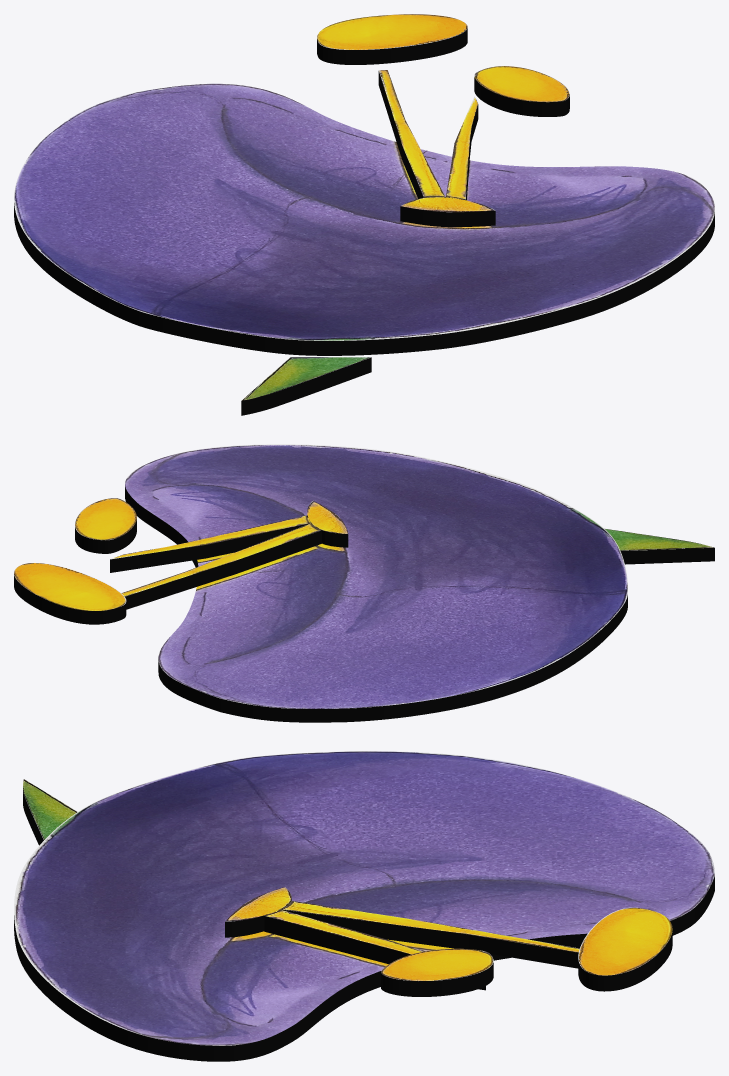
Rendered from Alt003_BD001_Flower_ModelB.gltf.
3 views of the same model, one above another, from view 1: azimuth 30°, elevation 25°; view 2: azimuth 150°, elevation 25°; view 3: azimuth 270°, elevation 25° (orthographic). The views are drawn at different scales.
Parts seen in each view (by area): view 1: Main, Stem1, Bulb1, Green, Bulb2; view 2: Main, Stem1, Bulb1, Bulb2, Green; view 3: Main, Stem1, Bulb1, Bulb2, Green.
Boxes of the visible parts, box(x1,y1,x2,y2) form: Main: box(14, 83, 714, 355); Stem1: box(378, 70, 495, 227); Bulb1: box(317, 14, 467, 64); Green: box(241, 357, 371, 415); Bulb2: box(474, 66, 569, 116); Main: box(125, 444, 627, 722); Stem1: box(110, 500, 348, 609); Bulb1: box(14, 563, 126, 624); Bulb2: box(75, 498, 136, 553); Green: box(604, 528, 714, 564); Main: box(14, 751, 714, 1061); Stem1: box(225, 887, 579, 990); Bulb1: box(578, 907, 672, 991); Bulb2: box(381, 948, 493, 996); Green: box(23, 779, 77, 845).
Bounding box in the file's own units: 0.4965 × 0.0605 × 0.4991.
6 materials, 5 textured.
